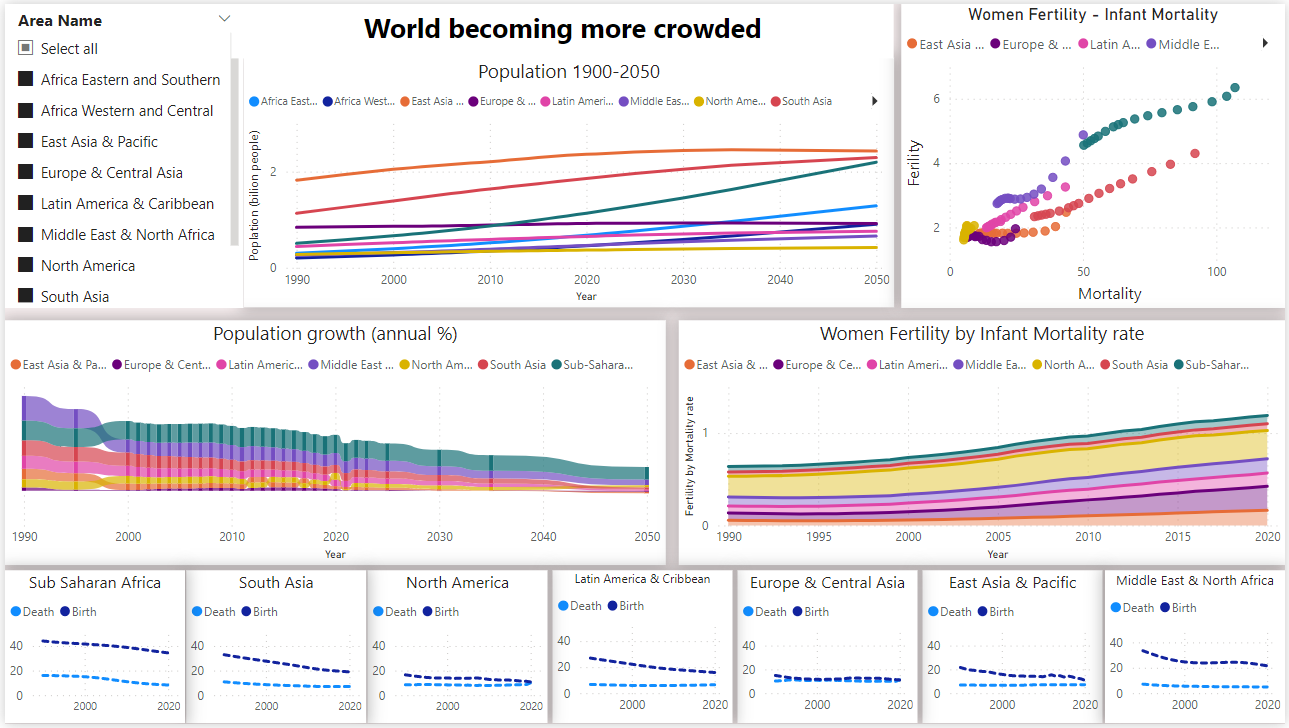

Layout of this report page (visuals, bound fields, positions):
{"tool":"powerbi","page":{"name":"Page 1","canvas":[1280,720],"ordinal":0},"visuals":[{"type":"lineChart","title":"Population 1900-2050","fields":{"Category":["Population, total 1900-2050.Year"],"Series":["Mortality rate, infant (per 1,000 live births).Country Name"],"Y":["Population, total 1900-2050.Population, total 1900-2050 divided by Population, total 1900-2050"]},"box":[238.5,54.1,650.4,249.6],"z":0},{"type":"ribbonChart","title":"Population growth (annual %)","fields":{"Category":["Population growth (annual %).Year"],"Y":["Sum(Population growth (annual %).Population growth (annual %))"],"Series":["Mortality rate, infant (per 1,000 live births).Country Name"]},"box":[0,316.8,660.7,245.2],"z":1000},{"type":"scatterChart","title":"Women Fertility - Infant Mortality","fields":{"X":["Sum(Mortality rate, infant (per 1,000 live births).Mortality rate, infant (per 1,000 live births))"],"Y":["Sum(Mortality rate, infant (per 1,000 live births).Fertility rate, total (births per woman))"],"Series":["Mortality rate, infant (per 1,000 live births).Country Name"],"Category":["Mortality rate, infant (per 1,000 live births).Year"]},"box":[896.3,0,383.7,304.1],"z":2000},{"type":"stackedAreaChart","title":"Women Fertility by Infant Mortality rate","fields":{"Category":["Mortality rate, infant (per 1,000 live births).Year"],"Y":["Mortality rate, infant (per 1,000 live births).Fertility by Mortality rate"],"Series":["Mortality rate, infant (per 1,000 live births).Country Name"]},"box":[673.4,316.8,606.6,245.2],"z":3000},{"type":"slicer","fields":{"Values":["Mortality rate, infant (per 1,000 live births).Country Name"]},"box":[0,0,238.5,303.7],"z":4000},{"type":"lineChart","title":"East Asia & Pacific","fields":{"Y":["Sum(Mortality rate, infant (per 1,000 live births).Death rate, crude (per 1,000 people))","Sum(Mortality rate, infant (per 1,000 live births).Birth rate, crude (per 1,000 people))"],"Category":["Mortality rate, infant (per 1,000 live births).Year"]},"box":[917,566.8,179.9,152.8],"z":5000},{"type":"lineChart","title":"Europe & Central Asia","fields":{"Y":["Sum(Mortality rate, infant (per 1,000 live births).Death rate, crude (per 1,000 people))","Sum(Mortality rate, infant (per 1,000 live births).Birth rate, crude (per 1,000 people))"],"Category":["Mortality rate, infant (per 1,000 live births).Year"]},"box":[732.3,566.8,179.9,152.8],"z":6000},{"type":"lineChart","title":"Latin America & Cribbean","fields":{"Y":["Sum(Mortality rate, infant (per 1,000 live births).Death rate, crude (per 1,000 people))","Sum(Mortality rate, infant (per 1,000 live births).Birth rate, crude (per 1,000 people))"],"Category":["Mortality rate, infant (per 1,000 live births).Year"]},"box":[547.7,566.8,179.9,152.8],"z":7000},{"type":"lineChart","title":"Middle East & North Africa","fields":{"Y":["Sum(Mortality rate, infant (per 1,000 live births).Death rate, crude (per 1,000 people))","Sum(Mortality rate, infant (per 1,000 live births).Birth rate, crude (per 1,000 people))"],"Category":["Mortality rate, infant (per 1,000 live births).Year"]},"box":[1100.1,566.8,179.9,152.8],"z":8000},{"type":"lineChart","title":"North America","fields":{"Y":["Sum(Mortality rate, infant (per 1,000 live births).Death rate, crude (per 1,000 people))","Sum(Mortality rate, infant (per 1,000 live births).Birth rate, crude (per 1,000 people))"],"Category":["Mortality rate, infant (per 1,000 live births).Year"]},"box":[363,566.8,179.9,152.8],"z":9000},{"type":"lineChart","title":"South Asia","fields":{"Y":["Sum(Mortality rate, infant (per 1,000 live births).Death rate, crude (per 1,000 people))","Sum(Mortality rate, infant (per 1,000 live births).Birth rate, crude (per 1,000 people))"],"Category":["Mortality rate, infant (per 1,000 live births).Year"]},"box":[181.5,566.8,179.9,152.8],"z":10000},{"type":"lineChart","title":"Sub Saharan Africa","fields":{"Y":["Sum(Mortality rate, infant (per 1,000 live births).Death rate, crude (per 1,000 people))","Sum(Mortality rate, infant (per 1,000 live births).Birth rate, crude (per 1,000 people))"],"Category":["Mortality rate, infant (per 1,000 live births).Year"]},"box":[0,566.8,179.9,152.8],"z":11000},{"type":"textbox","box":[226.4,0,662.6,54.3],"z":12000}]}

Visuals, with their boxes in screenshot pixels (x1, y1, x2, y2), scaled from the page's 1280x720 canvas onto the 1289x728 screenshot:
"Population 1900-2050" lineChart: detection(240, 55, 895, 307)
"Population growth (annual %)" ribbonChart: detection(0, 320, 665, 568)
"Women Fertility - Infant Mortality" scatterChart: detection(903, 0, 1288, 307)
"Women Fertility by Infant Mortality rate" stackedAreaChart: detection(678, 320, 1288, 568)
slicer - Mortality rate, infant (per 1,000 live births).Country Name: detection(0, 0, 240, 307)
"East Asia & Pacific" lineChart: detection(923, 573, 1105, 727)
"Europe & Central Asia" lineChart: detection(737, 573, 919, 727)
"Latin America & Cribbean" lineChart: detection(552, 573, 733, 727)
"Middle East & North Africa" lineChart: detection(1108, 573, 1288, 727)
"North America" lineChart: detection(366, 573, 547, 727)
"South Asia" lineChart: detection(183, 573, 364, 727)
"Sub Saharan Africa" lineChart: detection(0, 573, 181, 727)
textbox: detection(228, 0, 895, 55)
